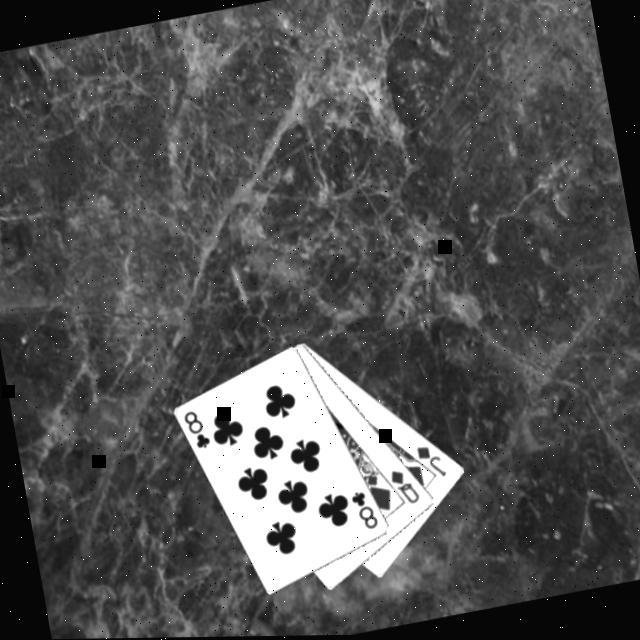8C: (178, 404, 214, 454), (346, 486, 380, 534)
JD: (411, 439, 449, 484)
QD: (384, 464, 422, 511)
